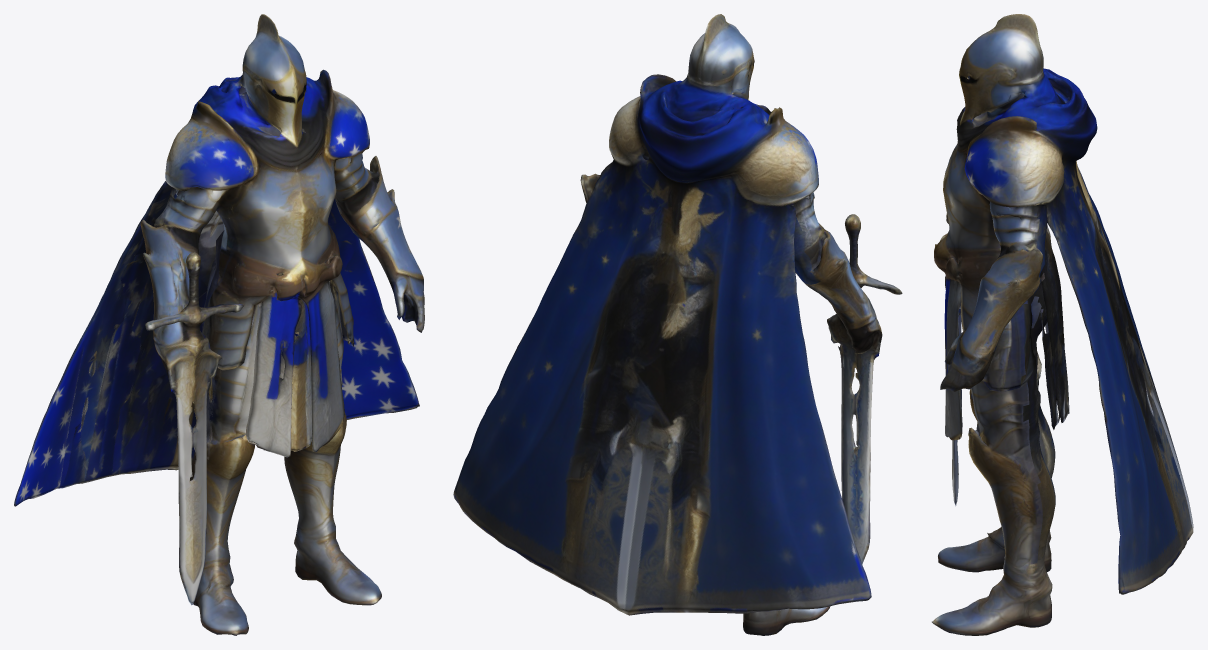
Rendered from noble-warrior.glb.
3 views of the same model, side by side, from view 1: azimuth 30°, elevation 25°; view 2: azimuth 150°, elevation 25°; view 3: azimuth 270°, elevation 25° (orthographic). The views are drawn at different scales.
Bounding box in the file's own units: 1.47 × 2 × 0.8154.
Materials: 1 (1 with a texture image).
